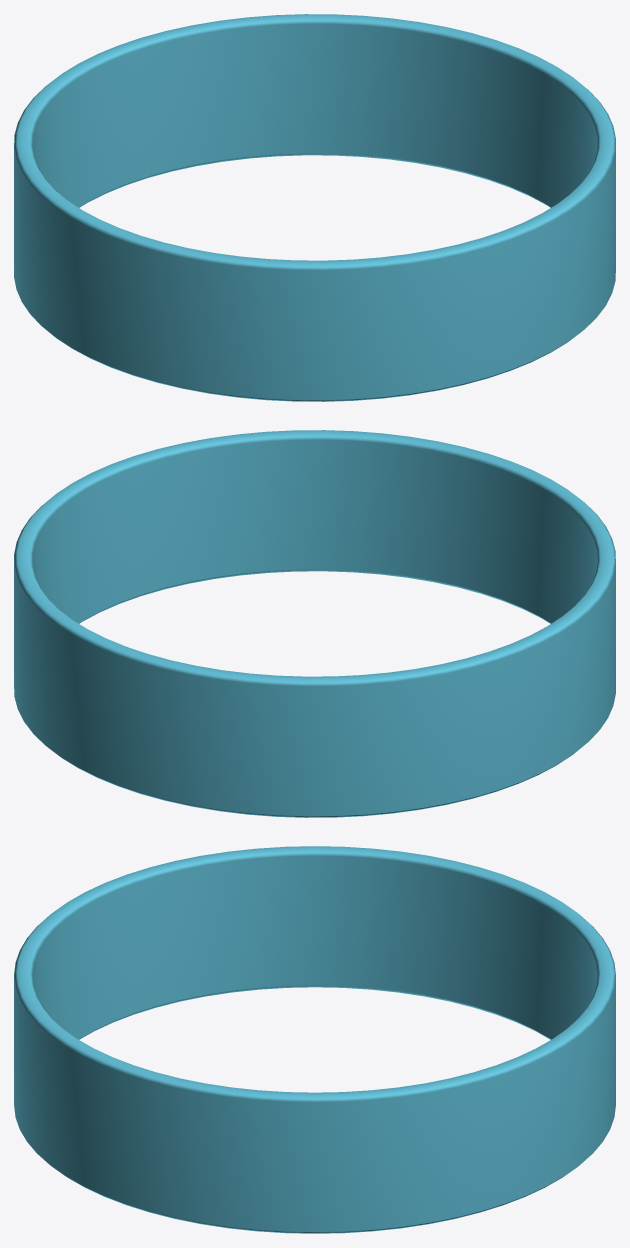
The picture shows the model from 3 angles, top to bottom: view 1: azimuth 30°, elevation 25°; view 2: azimuth 150°, elevation 25°; view 3: azimuth 270°, elevation 25°; orthographic projection.
Parts seen in each view (by area): view 1: seal_body; view 2: seal_body; view 3: seal_body.
Boxes of the visible parts, <box> form: seal_body: <box>14,14,615,401</box>; seal_body: <box>14,430,615,817</box>; seal_body: <box>14,846,615,1233</box>.
Bounding box in the file's own units: 0.08 × 0.02 × 0.08.
